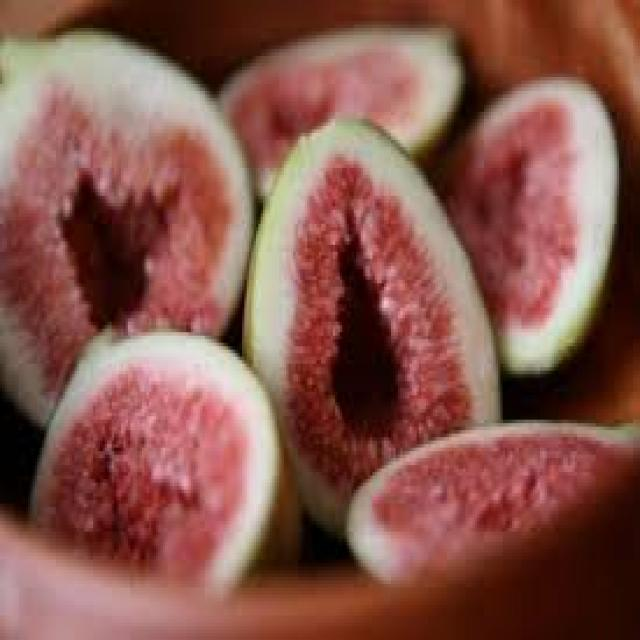organic waste: (240, 112, 498, 542), (0, 28, 254, 427), (26, 315, 300, 584), (430, 66, 622, 374), (340, 416, 635, 581), (217, 18, 463, 200)
